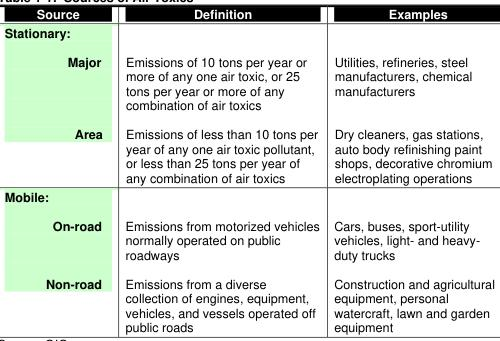table: (3, 4, 493, 335)
table column: (113, 4, 326, 335), (326, 4, 493, 335), (3, 4, 113, 335)
table column header: (3, 4, 493, 22)
table projected row header: (3, 22, 493, 46), (3, 186, 493, 210)
table row: (3, 46, 493, 118), (3, 118, 493, 186), (3, 268, 493, 335), (3, 210, 493, 268), (3, 22, 493, 46), (3, 186, 493, 210), (3, 4, 493, 22)
